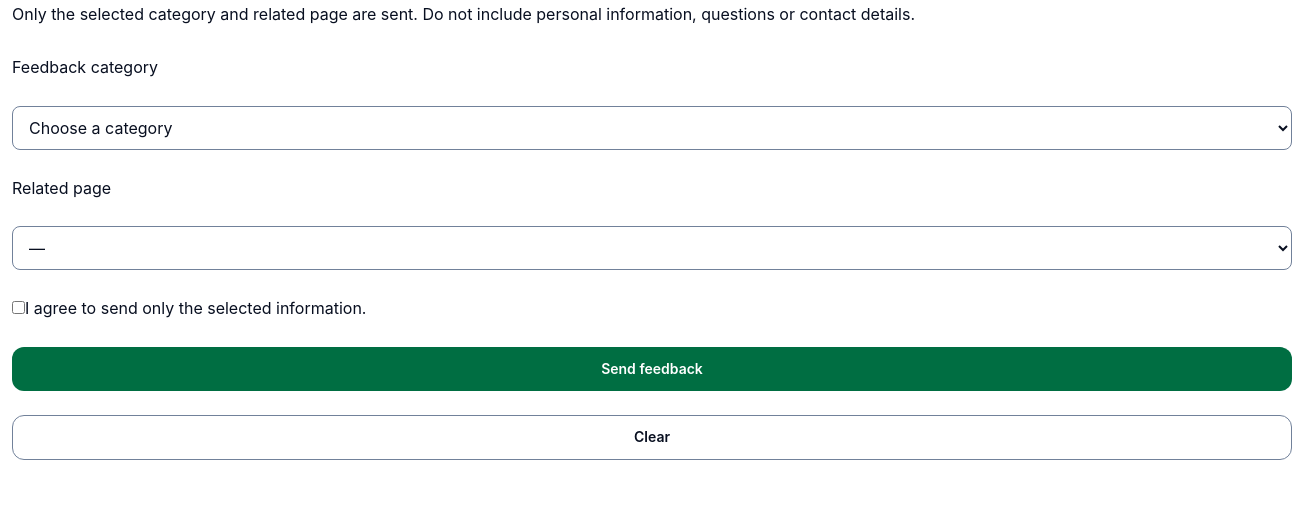
Scenario: audit feedback sends only selected consented codes and waits for a genuine receipt
This screenshot has width=1304, height=530.
Click the button "Send feedback": click(652, 369) [12, 347, 1292, 391]
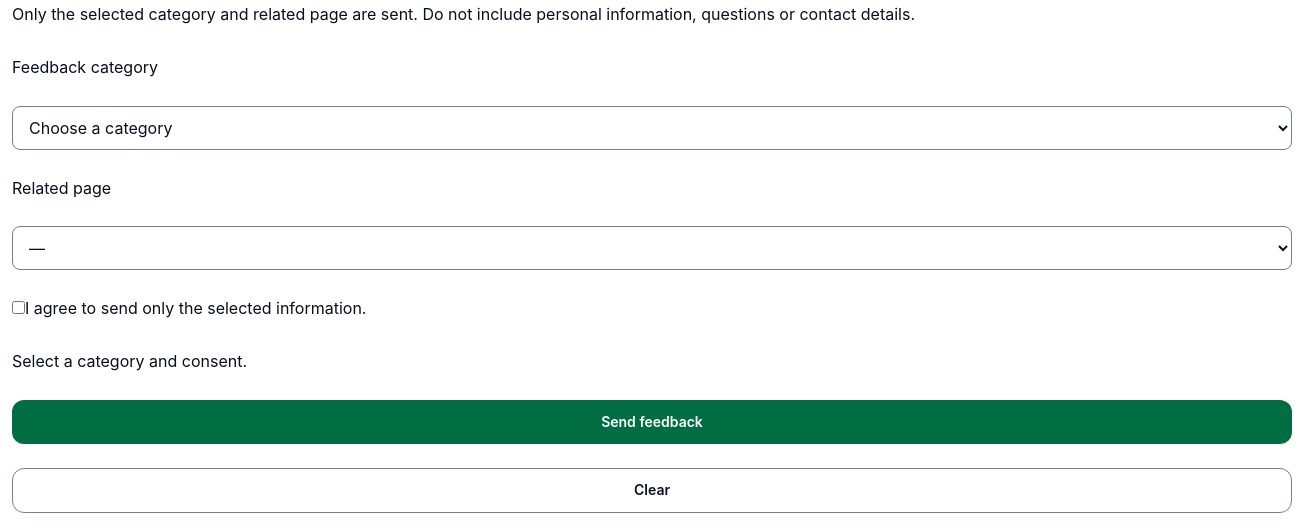
Expected: the message shows "Select a category", [12, 351, 247, 371]
Select "Incorrect" in the dropdown labelled "Feedback category": (652, 128) [12, 106, 1292, 150]
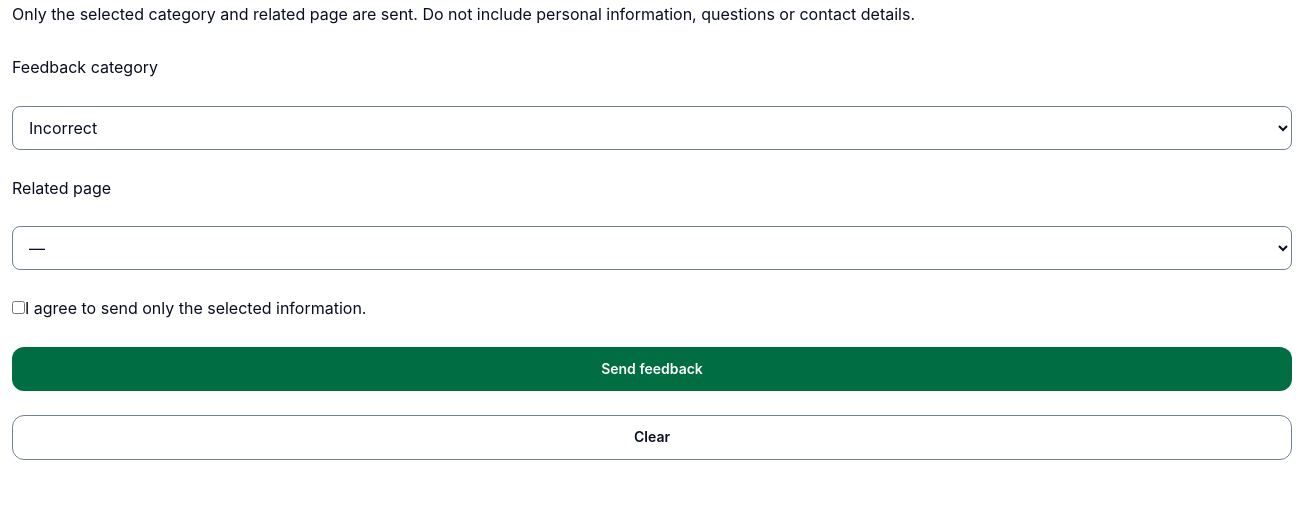
Select "/en/ask" in the dropdown labelled "Related page": (652, 248) [12, 226, 1292, 270]
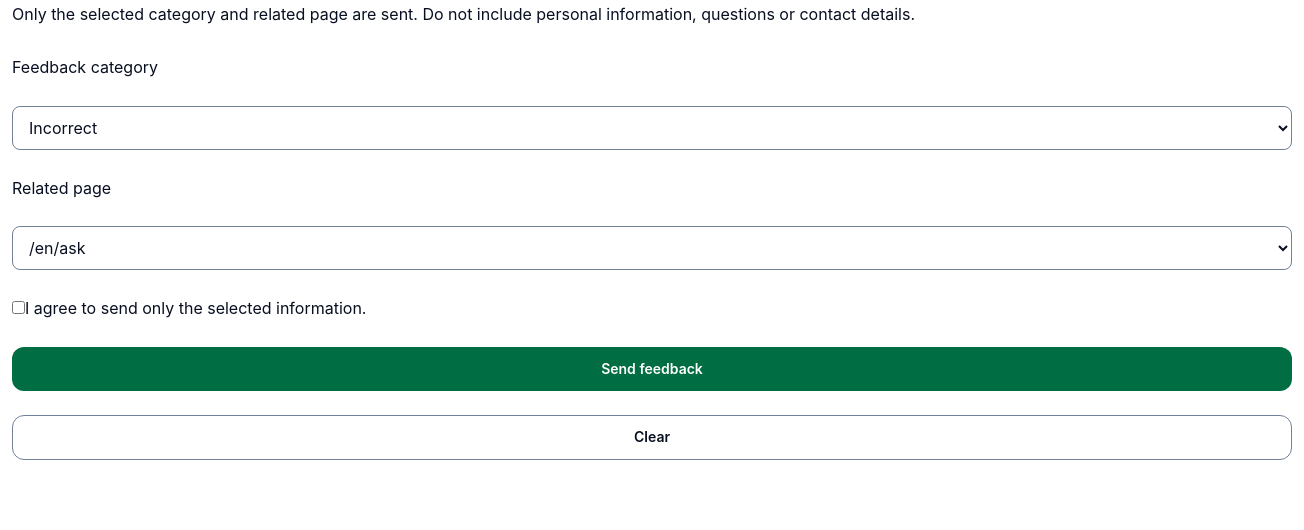
Click the checkbox: click(18, 308) [12, 301, 25, 314]
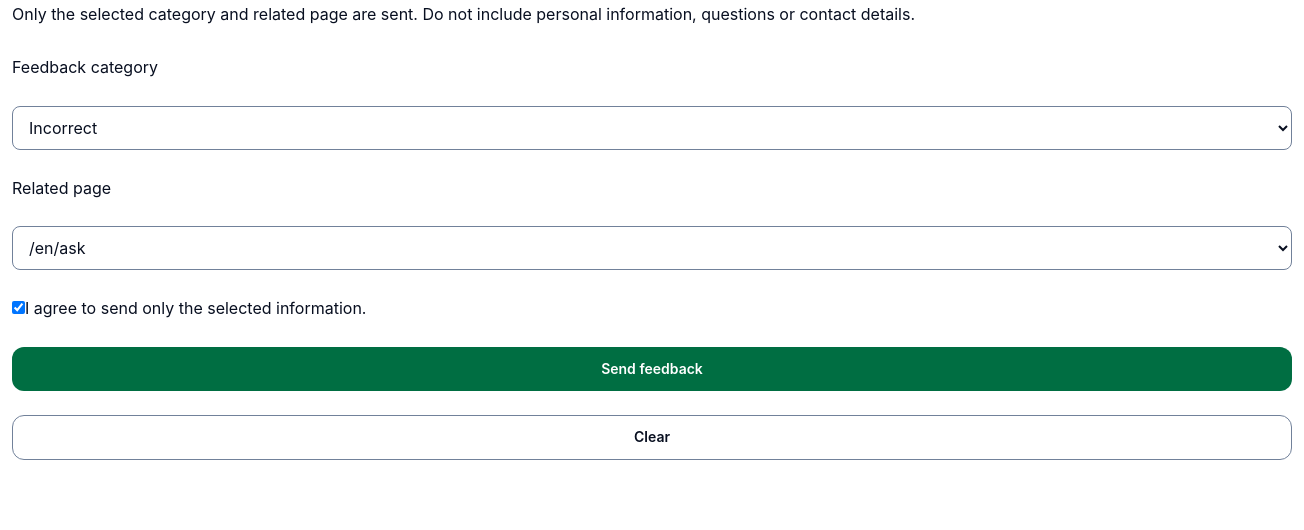
Click the button "Send feedback": click(652, 369) [12, 347, 1292, 391]
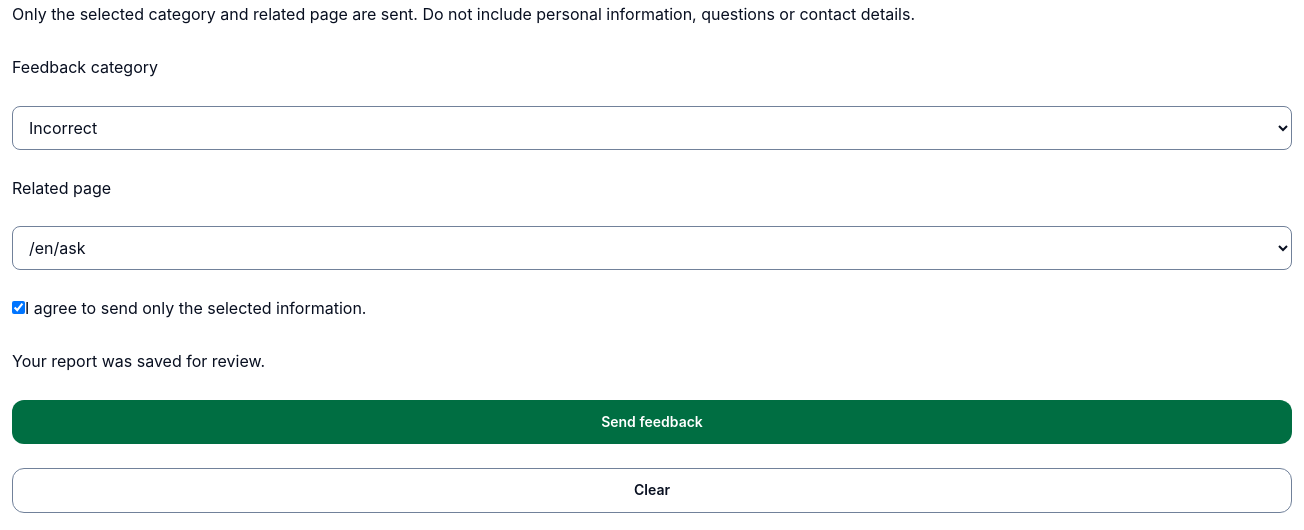
Expected: the message shows "saved for review", [12, 351, 265, 371]
Click the button "Clear": click(652, 490) [12, 468, 1292, 513]
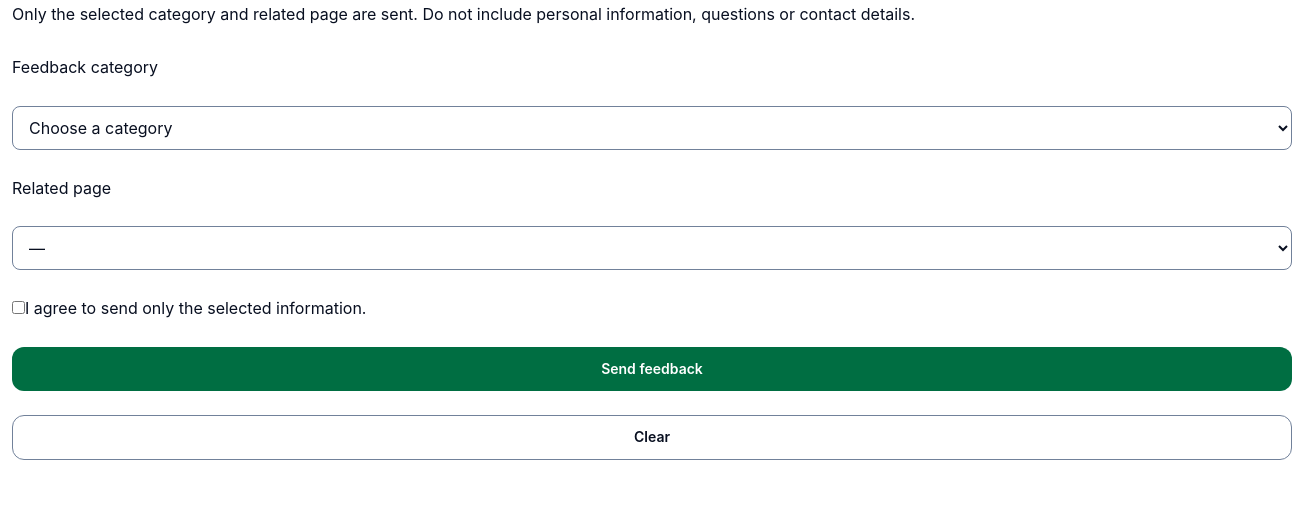
Expected: the message "Your report was saved for review." is gone
